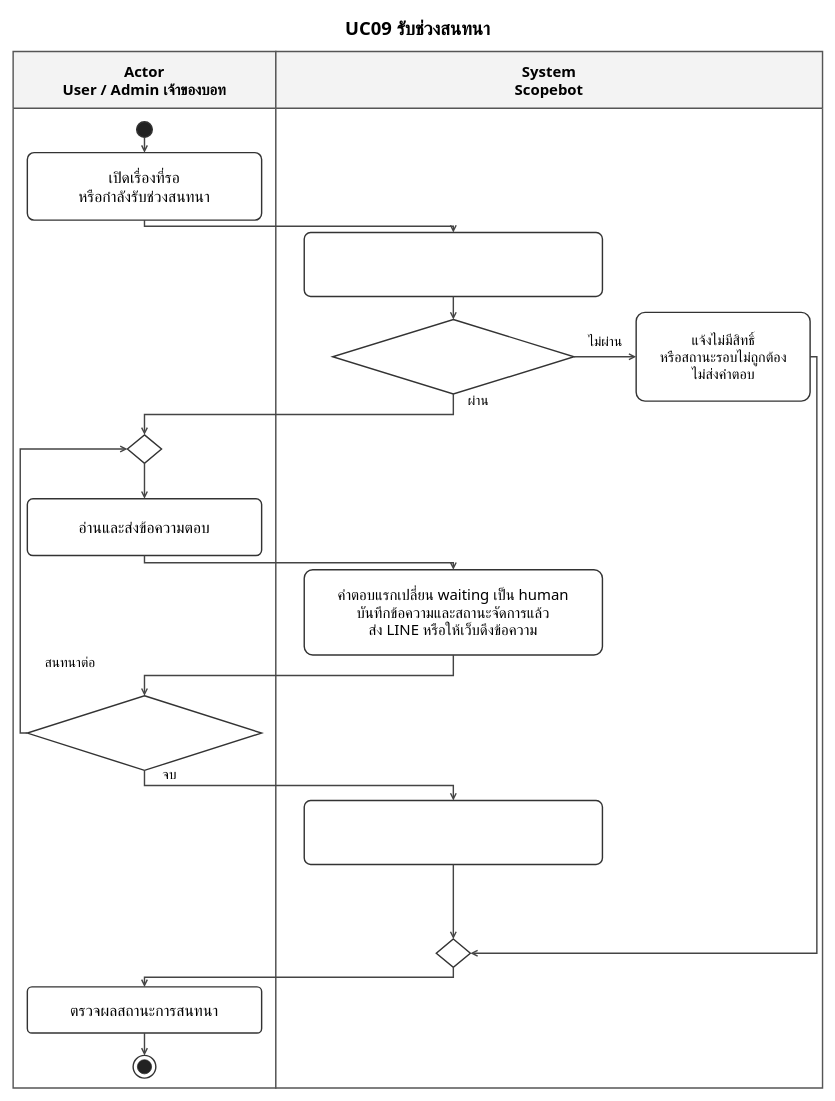
This 835x1101 diagram has some shape labels left out. The shapes that lost their labels are listed below. From the top down, each one's centre as x and y in pixels, then its label:
At point 453,264: "ตรวจเจ้าของ รอบยังเปิด และโหมด waiting หรือ human".
At point 453,356: "ผ่านเงื่อนไขการตอบ".
At point 144,733: "เลือกจบการสนทนา".
At point 453,832: "กำหนด mode=bot และปิดรอบ บันทึกเวลาสิ้นสุด".
